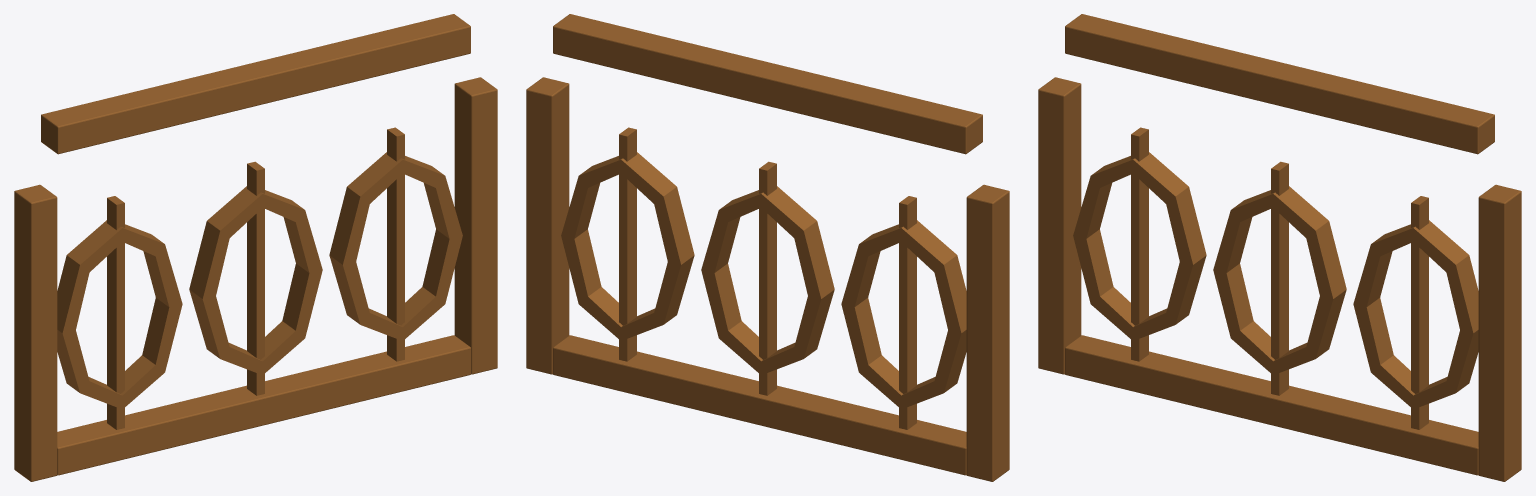
Rendered from source-edit.glb.
3 views of the same model, side by side, from view 1: azimuth 30°, elevation 25°; view 2: azimuth 150°, elevation 25°; view 3: azimuth 330°, elevation 25° (orthographic).
Visible parts, largest first — view 1: PANEL_TopRail, PANEL_BottomRail, PANEL_Stile, PANEL_Stile.001, CARVE_Stem.001, CARVE_Stem.002, CARVE_Stem, CARVE_Petal.012, CARVE_Petal.020, CARVE_Petal.004, CARVE_Petal.016, CARVE_Petal (+19 smaller); view 2: PANEL_TopRail, PANEL_BottomRail, PANEL_Stile, PANEL_Stile.001, CARVE_Stem.001, CARVE_Stem.002, CARVE_Stem, CARVE_Petal.012, CARVE_Petal.020, CARVE_Petal.004, CARVE_Petal.016, CARVE_Petal (+19 smaller); view 3: PANEL_TopRail, PANEL_BottomRail, PANEL_Stile.001, PANEL_Stile, CARVE_Stem, CARVE_Stem.002, CARVE_Stem.001, CARVE_Petal.009, CARVE_Petal.001, CARVE_Petal.017, CARVE_Petal.005, CARVE_Petal.013 (+19 smaller).
Boxes of the visible parts, x1,y1,x2,y2 form: PANEL_TopRail: (41, 14, 470, 154); PANEL_BottomRail: (57, 335, 470, 475); PANEL_Stile: (14, 184, 57, 481); PANEL_Stile.001: (454, 77, 497, 374); CARVE_Stem.001: (107, 196, 124, 429); CARVE_Stem.002: (247, 161, 264, 395); CARVE_Stem: (387, 127, 404, 361); CARVE_Petal.012: (189, 221, 229, 298); CARVE_Petal.020: (329, 187, 369, 264); CARVE_Petal.004: (57, 255, 89, 333); CARVE_Petal.016: (282, 263, 322, 337); CARVE_Petal: (422, 229, 462, 303); PANEL_TopRail: (553, 14, 982, 154); PANEL_BottomRail: (553, 335, 966, 475); PANEL_Stile: (966, 184, 1009, 481); PANEL_Stile.001: (526, 77, 569, 374); CARVE_Stem.001: (899, 196, 916, 429); CARVE_Stem.002: (759, 161, 776, 395); CARVE_Stem: (619, 127, 636, 361); CARVE_Petal.012: (794, 221, 834, 298); CARVE_Petal.020: (654, 187, 694, 264); CARVE_Petal.004: (934, 255, 966, 333); CARVE_Petal.016: (701, 263, 741, 337); CARVE_Petal: (561, 229, 601, 303); PANEL_TopRail: (1065, 14, 1494, 154); PANEL_BottomRail: (1065, 335, 1478, 475); PANEL_Stile.001: (1478, 184, 1521, 481); PANEL_Stile: (1038, 77, 1081, 374); CARVE_Stem: (1411, 196, 1428, 429); CARVE_Stem.002: (1271, 161, 1288, 395); CARVE_Stem.001: (1131, 127, 1148, 361); CARVE_Petal.009: (1306, 221, 1346, 298); CARVE_Petal.001: (1166, 187, 1206, 264); CARVE_Petal.017: (1446, 255, 1478, 333); CARVE_Petal.005: (1073, 229, 1113, 303); CARVE_Petal.013: (1213, 263, 1253, 337).
Bounding box in the file's own units: 1.4 × 1 × 0.09.
